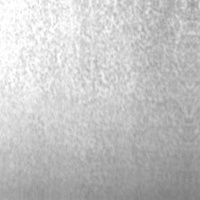pitted_surface: (0, 0, 192, 105)
